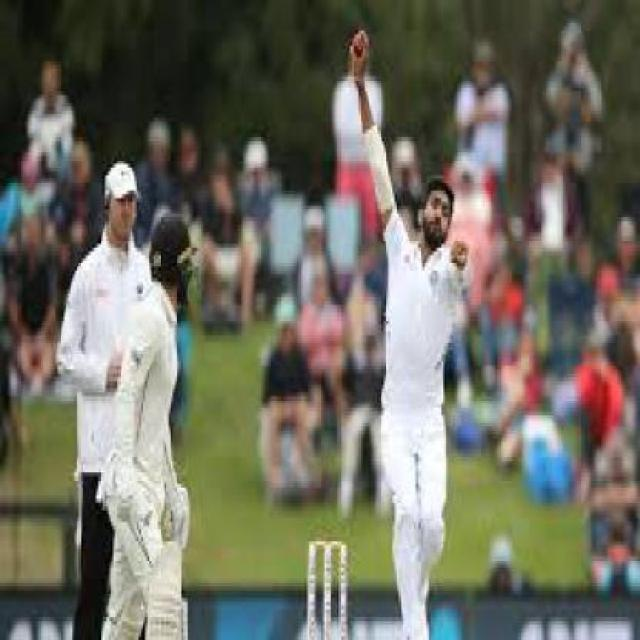ball: (332, 15, 388, 68)
